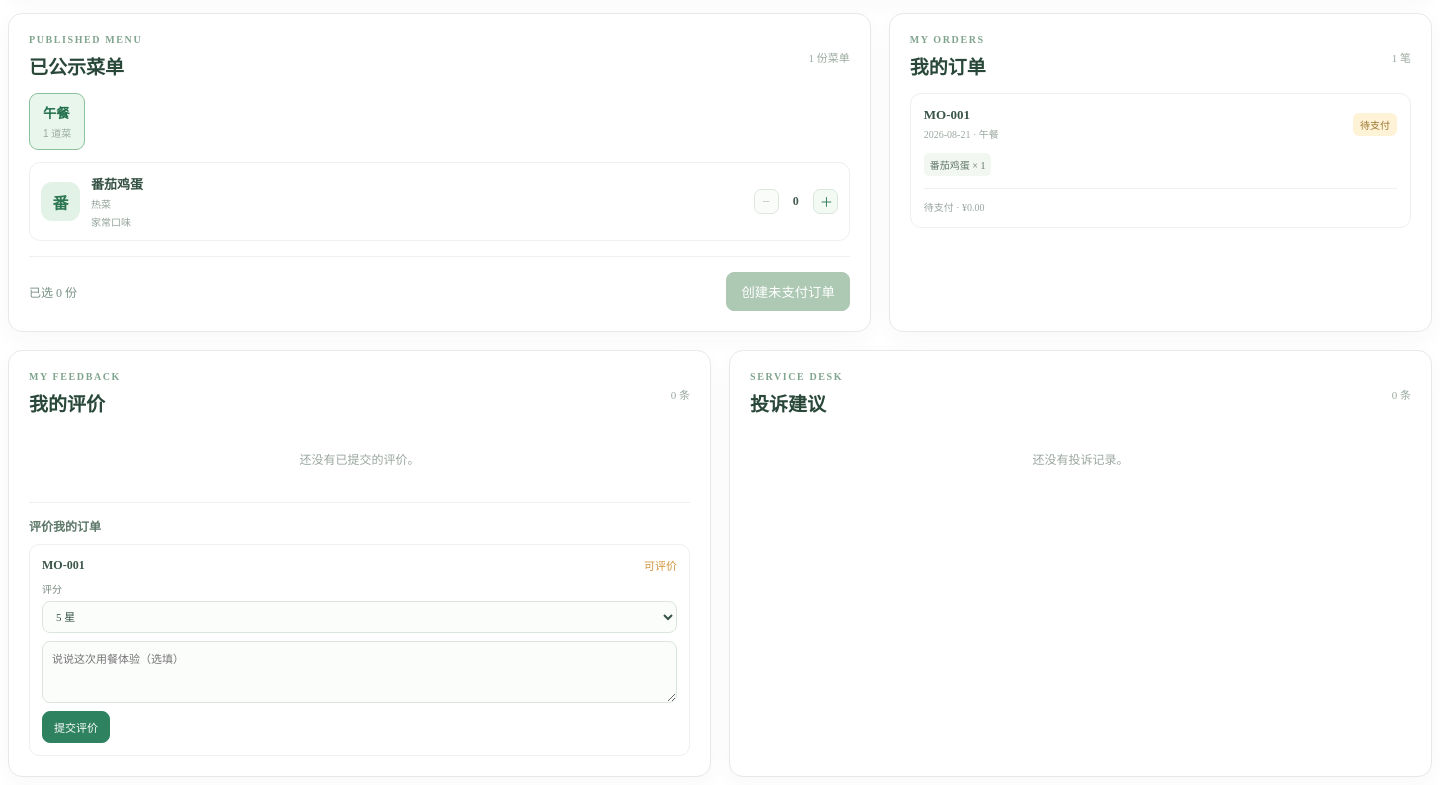
DinerWorkspace › submits a review for an own active order and reloads personal reviews
The width and height of the screenshot is (1440, 785).
(page scrolled)
Type "很好吃" into the text box with placeholder "说说这次用餐体验（选填）" at (360, 672), box [42, 641, 677, 703]
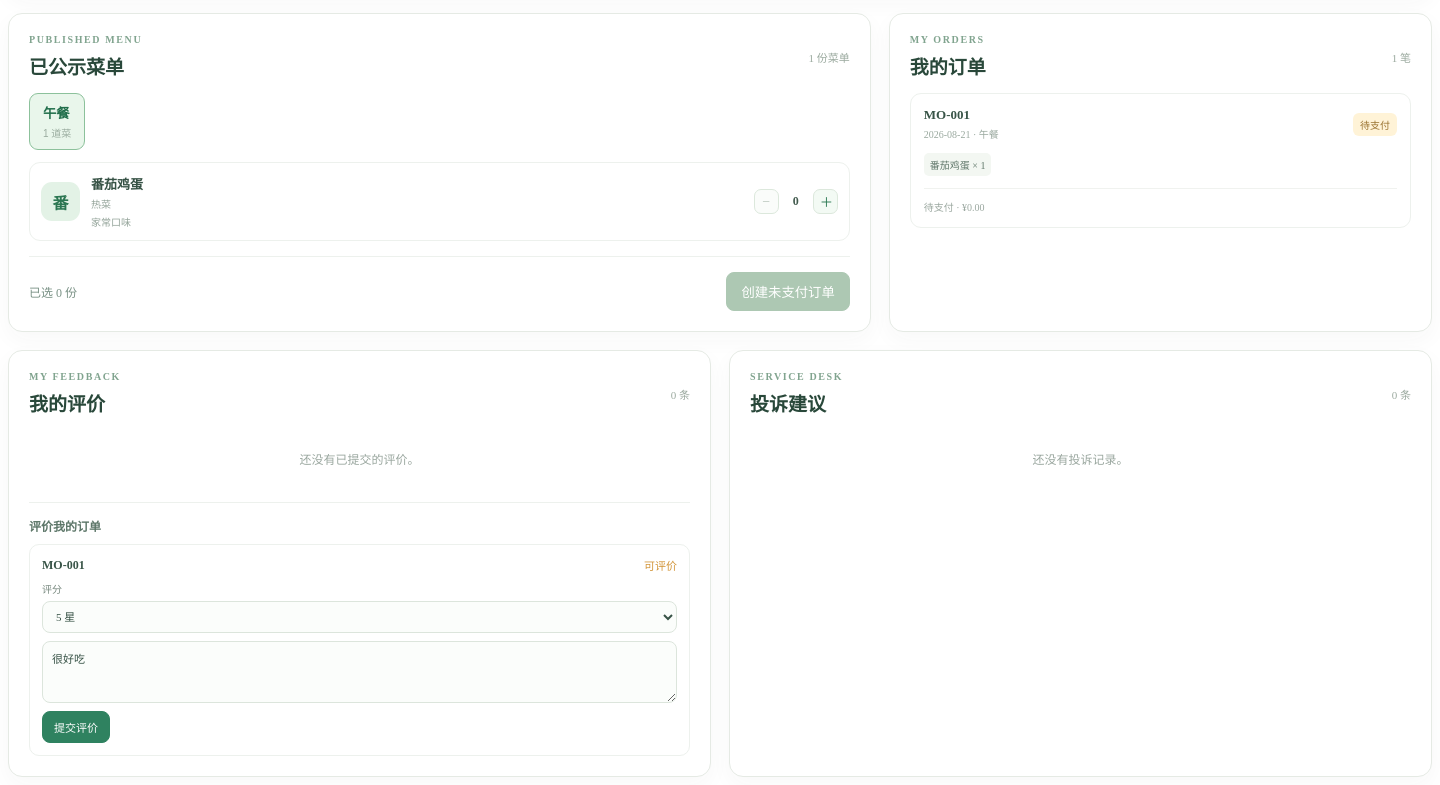
Click the button with aria-label "提交评价" at (76, 727), box [42, 711, 110, 743]
(page scrolled)
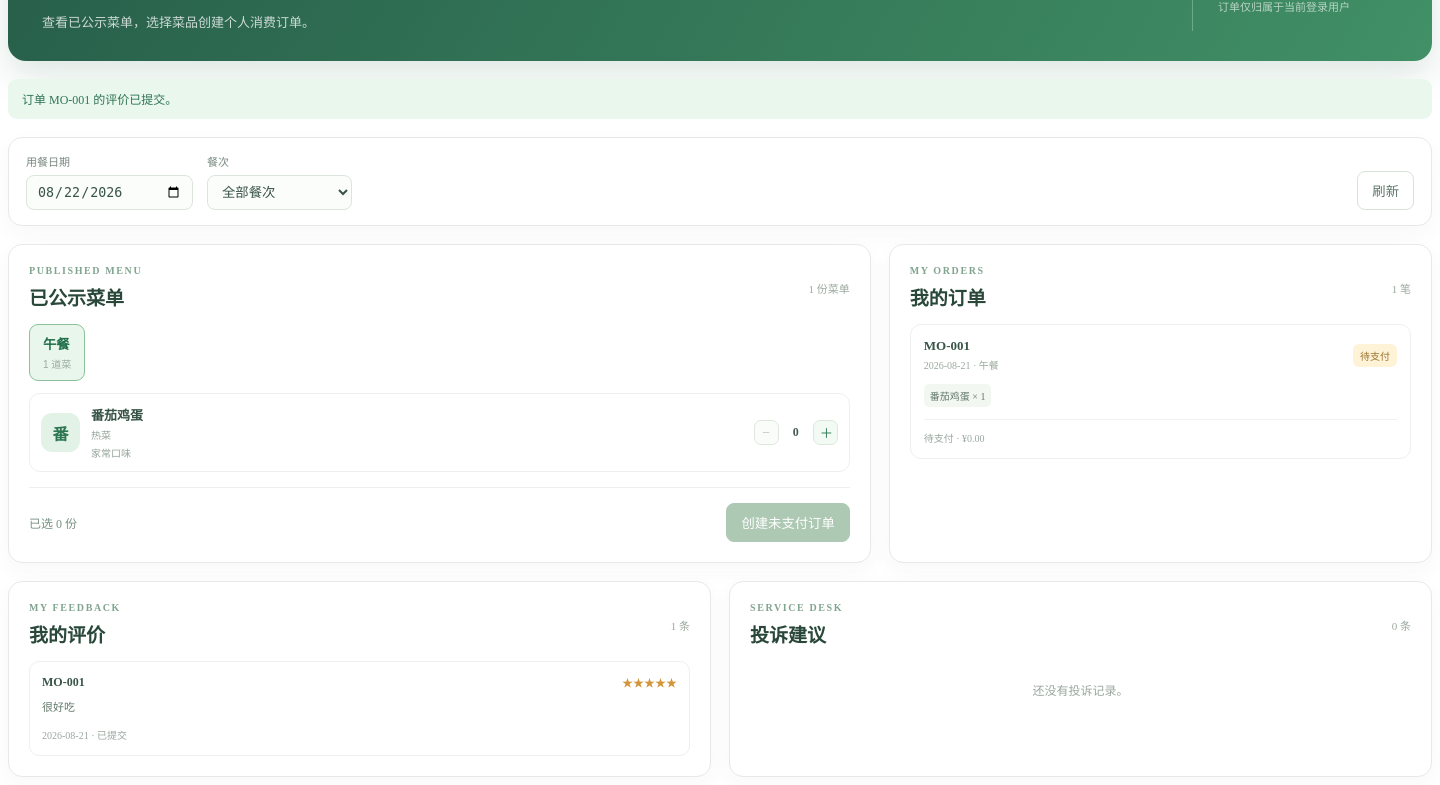
Expected: the text "订单 MO-001 的评价已提交" is shown, [22, 93, 177, 107]
Expected: the text "很好吃" is shown, [42, 701, 75, 713]
